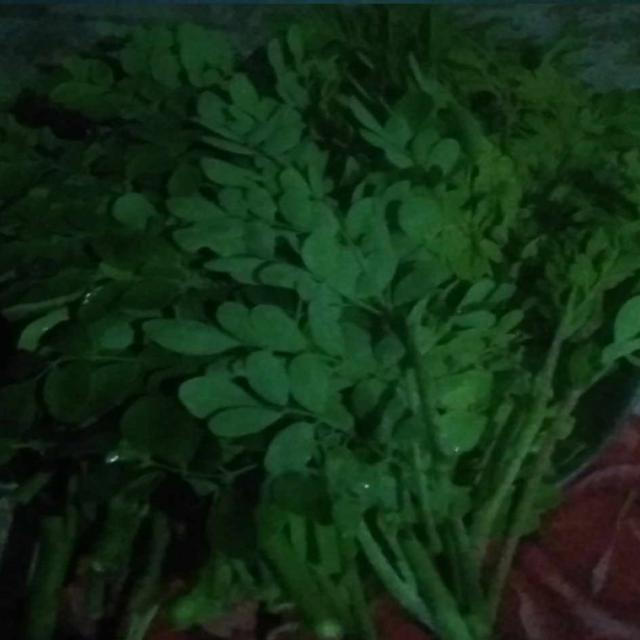Moringa Leaves: (100, 67, 587, 585)
